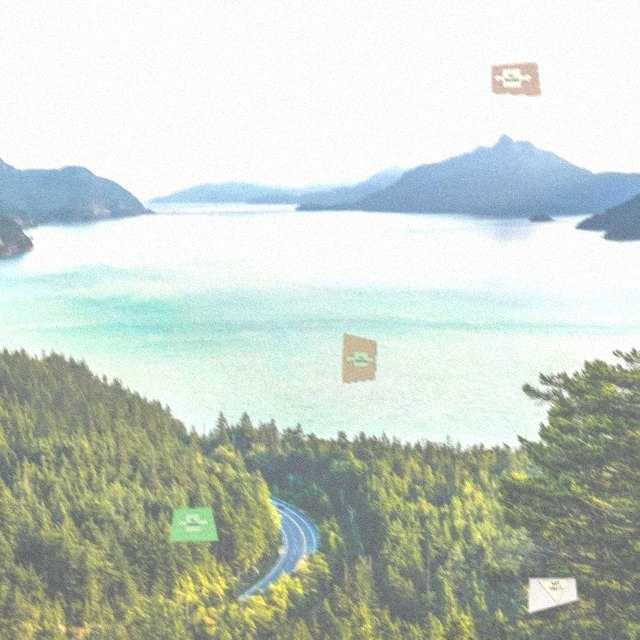GO_AROUND: (492, 66, 535, 92), (176, 513, 211, 534), (345, 350, 376, 367)
NOT_YIELD: (537, 577, 572, 608)
